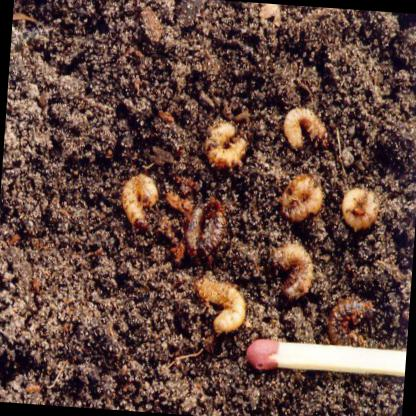root grubs: (198, 276, 244, 332), (282, 174, 327, 219), (203, 123, 246, 166), (340, 191, 377, 228)
